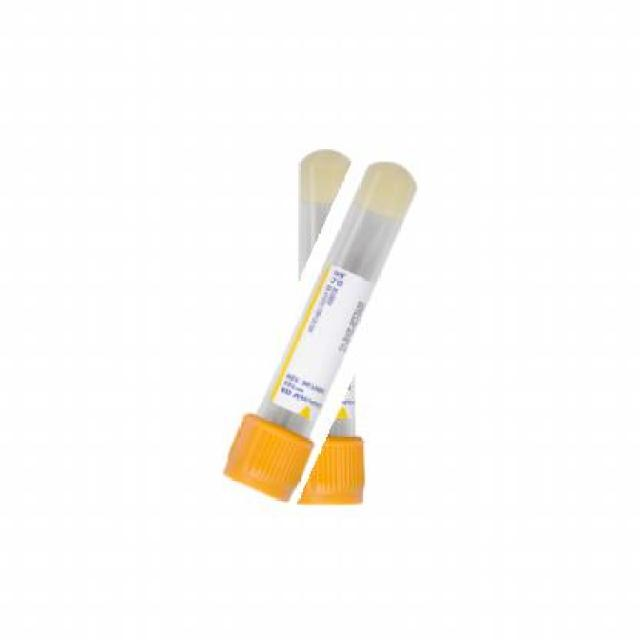Experimental-tube: (249, 147, 405, 507)
